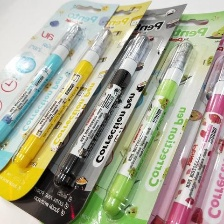book: (2, 0, 189, 224), (40, 7, 224, 224), (0, 0, 155, 203), (0, 0, 122, 185)
correction_fluid: (101, 37, 196, 218), (52, 30, 154, 192), (12, 25, 117, 171), (155, 45, 224, 224), (0, 22, 86, 153)
